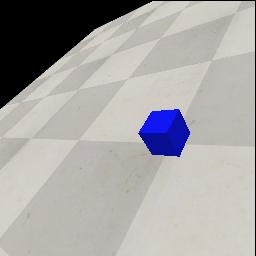box: (138, 109, 190, 157)
